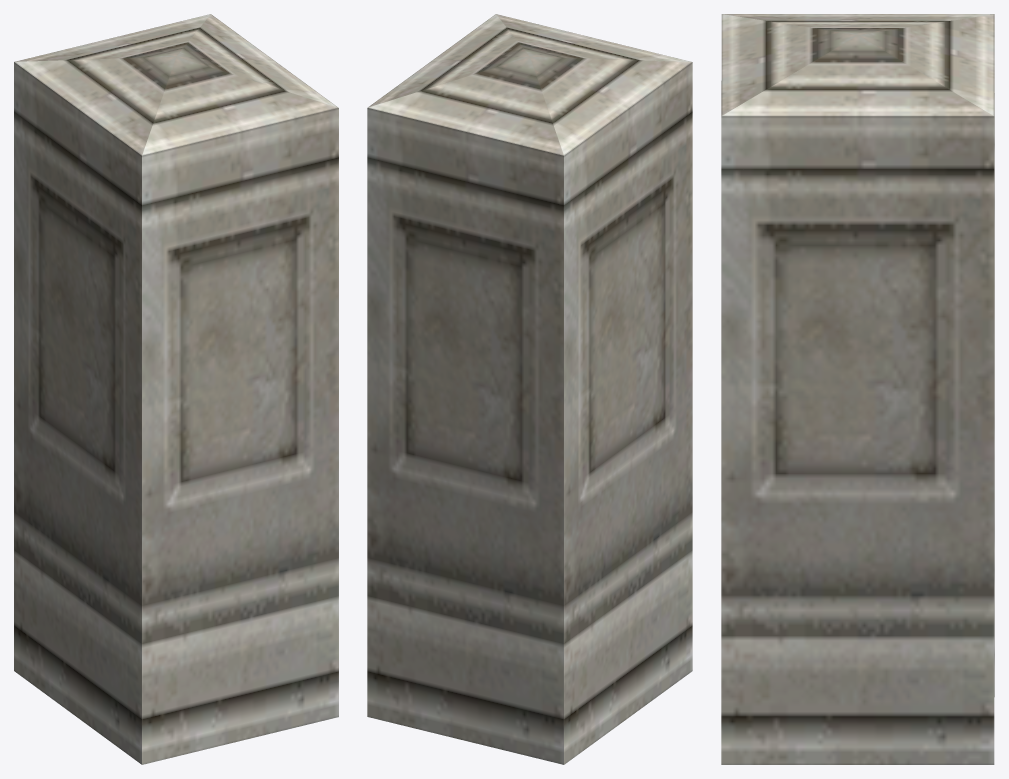
The model's file is rd_fen7.glb.
3 renders of one model, left to right at view 1: azimuth 30°, elevation 25°; view 2: azimuth 150°, elevation 25°; view 3: azimuth 270°, elevation 25°, orthographic. The views are drawn at different scales.
Visible parts, largest first — view 1: rd_fen7; view 2: rd_fen7; view 3: rd_fen7.
Part boxes in pixels (bbox=[...]): rd_fen7: bbox=[14, 14, 338, 764]; rd_fen7: bbox=[367, 14, 692, 764]; rd_fen7: bbox=[721, 14, 994, 764].
Size of the model in its own units: 0.5362 by 1.66 by 0.6051.
1 material, 1 textured.
